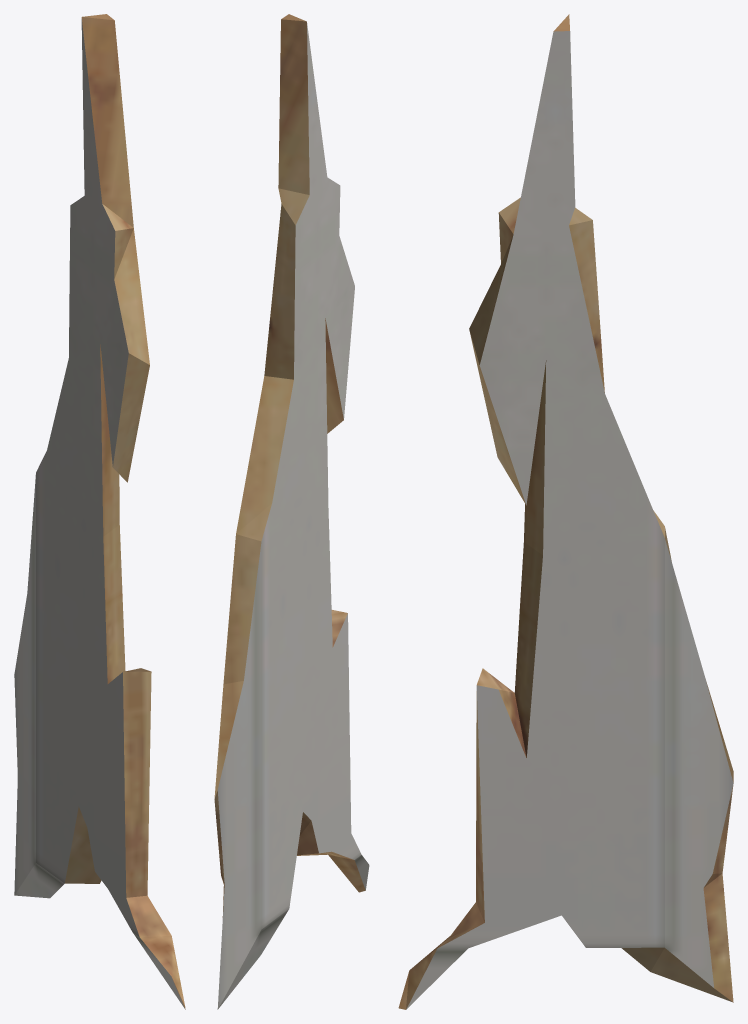
Rendered from door_interior_128_01_dm02_05.glb.
3 renders of one model, left to right at view 1: azimuth 30°, elevation 25°; view 2: azimuth 150°, elevation 25°; view 3: azimuth 270°, elevation 25°, orthographic. The views are drawn at different scales.
Visible parts, largest first — view 1: door_interior_128_01_dm02_05; view 2: door_interior_128_01_dm02_05; view 3: door_interior_128_01_dm02_05.
Part boxes in pixels (<box>): door_interior_128_01_dm02_05: <box>14,14,185,1009</box>; door_interior_128_01_dm02_05: <box>214,14,369,1009</box>; door_interior_128_01_dm02_05: <box>398,14,733,1009</box>.
Size of the model in its own units: 0.0193 by 0.5744 by 0.1775.
1 material, 1 textured.
